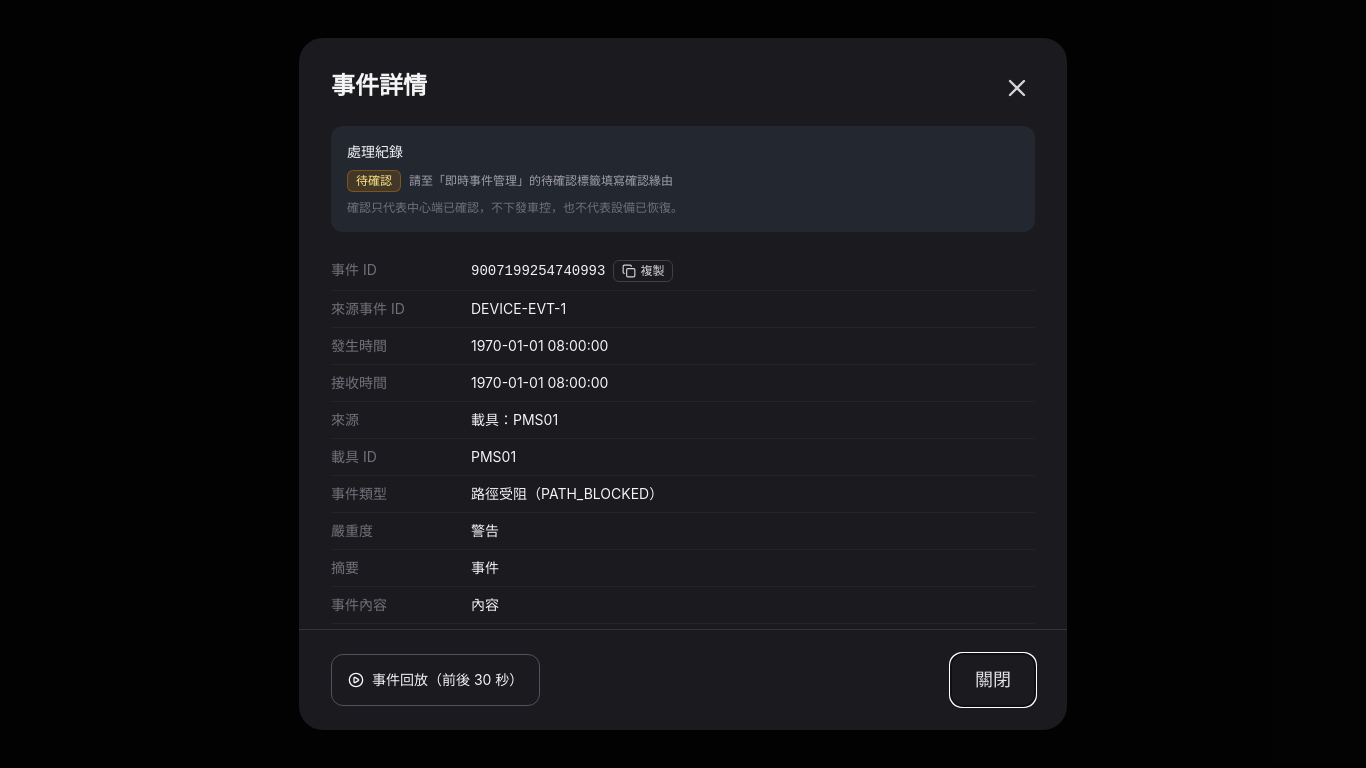
Test: 事件詳情的事件 ID › 剪貼簿失敗時不謊報成功
Click the button with aria-label "複製事件 ID": (643, 271) [613,260,673,282]
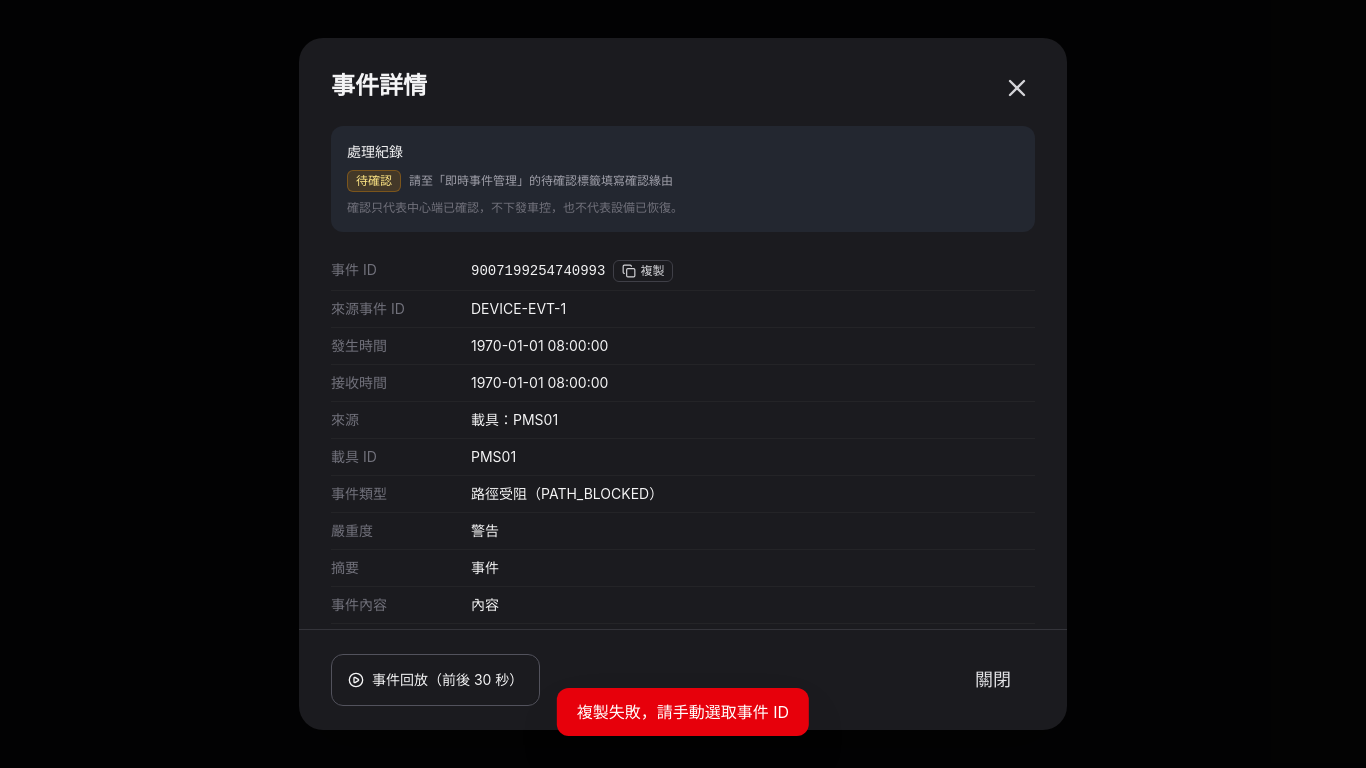
Now the text "複製失敗，請手動選取事件 ID" is shown, box [557,688,809,736]
